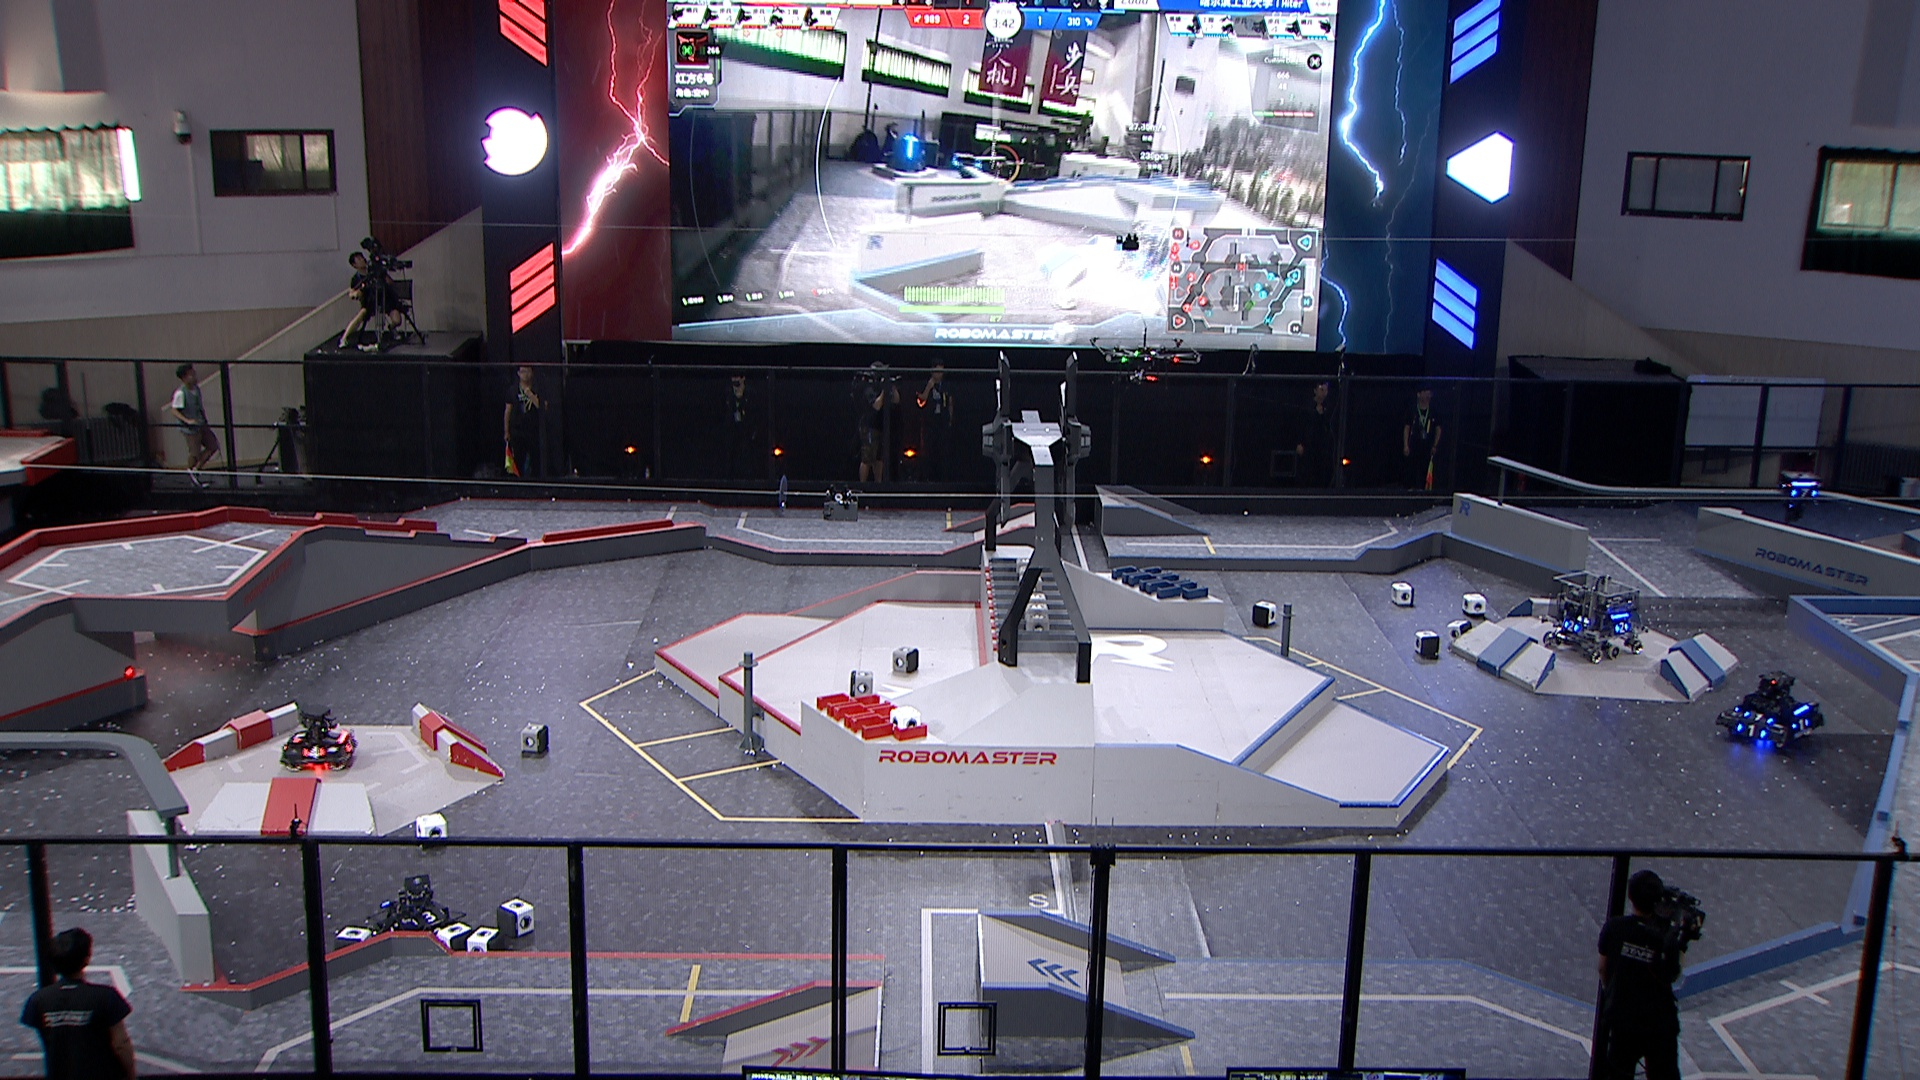armor: (1738, 721, 1766, 742), (1743, 709, 1774, 727), (414, 909, 443, 924), (1789, 484, 1816, 500), (1793, 717, 1812, 732), (301, 746, 320, 760), (342, 735, 356, 752), (1563, 618, 1581, 632), (291, 731, 306, 744), (1614, 622, 1629, 636)
car: (1717, 665, 1830, 754), (1544, 566, 1644, 662), (277, 702, 365, 775), (371, 876, 458, 949)
ignore: (889, 135, 931, 173)
watcher: (1774, 465, 1826, 527)
